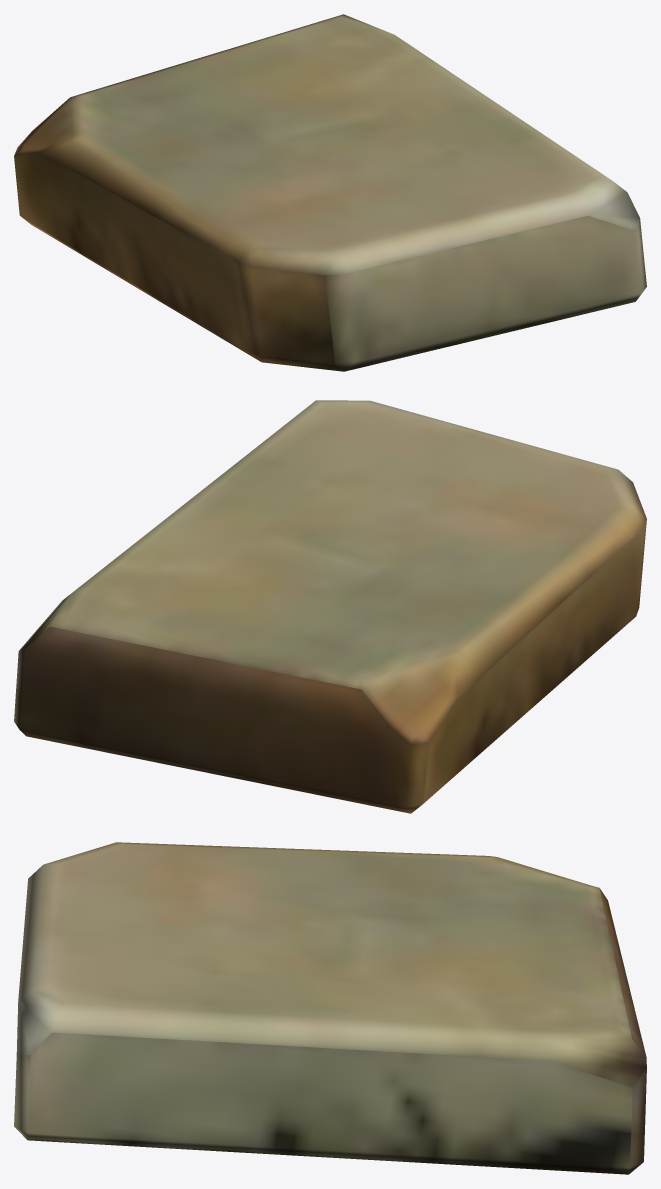
File: RockPack005.fbx
3 views of the same model, one above another, from view 1: azimuth 30°, elevation 25°; view 2: azimuth 150°, elevation 25°; view 3: azimuth 270°, elevation 25° (orthographic). The views are drawn at different scales.
Parts seen in each view (by area): view 1: RockPack005; view 2: RockPack005; view 3: RockPack005.
Part boxes in pixels (box(x1,y1,x2,y2)): RockPack005: box(14, 14, 646, 371); RockPack005: box(14, 400, 646, 813); RockPack005: box(14, 842, 646, 1174).
Size of the model in its own units: 111 by 40.59 by 145.
Materials: 1 (1 with a texture image).
